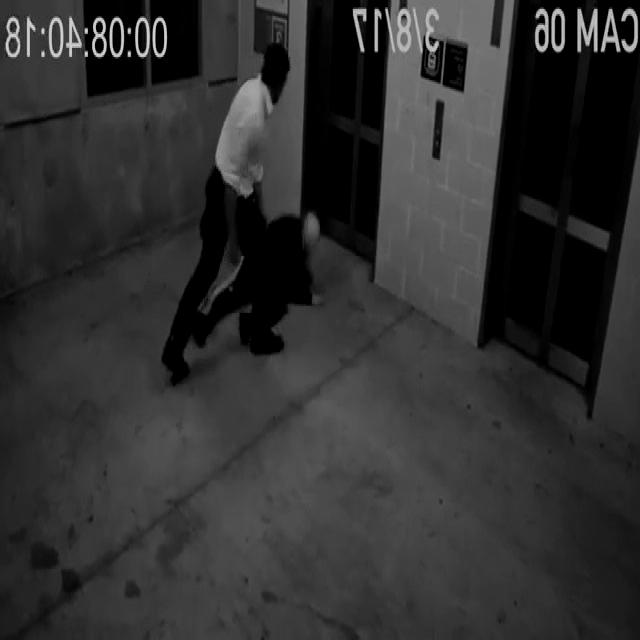fight: (162, 42, 320, 386)
